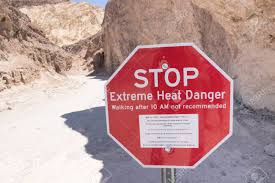Stop: (93, 34, 238, 166)
